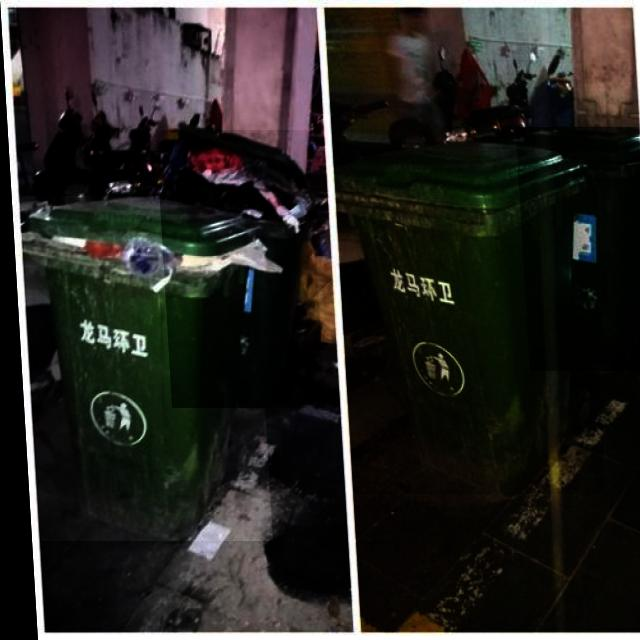garbage_bin: (332, 142, 600, 494), (514, 127, 640, 371)
overflow: (18, 196, 266, 541), (154, 130, 320, 408)
